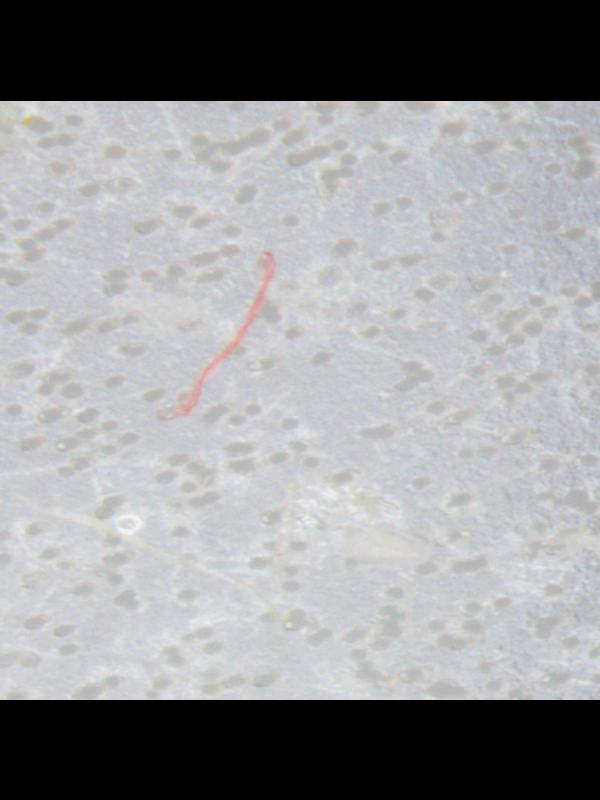microplastic: (0, 101, 600, 700), (160, 249, 278, 419)
